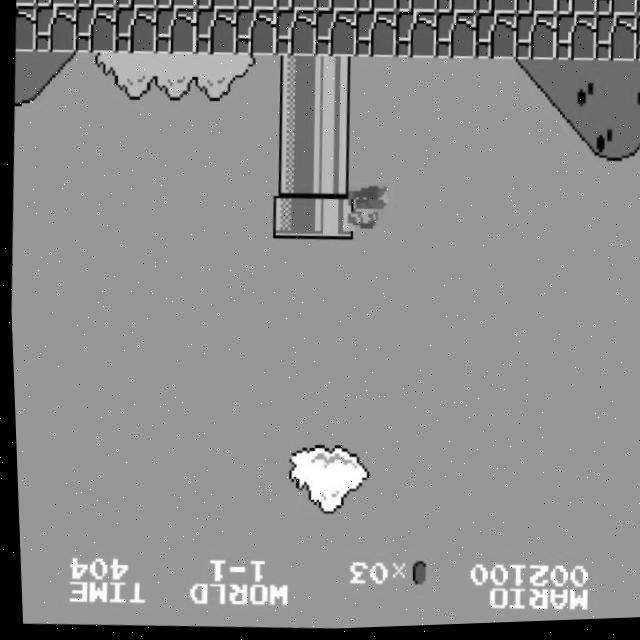11- little_mario: (345, 187, 391, 239)
14- pipe: (311, 103, 356, 153), (272, 56, 317, 106), (310, 149, 355, 198), (312, 58, 357, 107), (271, 102, 316, 151), (270, 149, 314, 197)
15- pipe_head: (309, 194, 354, 244), (269, 194, 314, 243)
17- undestructible_block: (513, 16, 558, 66), (473, 15, 518, 64), (433, 14, 478, 63), (193, 9, 238, 58), (153, 8, 198, 57), (113, 7, 158, 56), (73, 6, 118, 55), (33, 5, 78, 54), (394, 13, 438, 63), (354, 12, 398, 62), (234, 9, 278, 59), (594, 18, 638, 67), (554, 17, 598, 66), (314, 12, 358, 61), (274, 11, 318, 60), (14, 5, 38, 53), (595, 0, 638, 22), (555, 0, 598, 21), (515, 0, 558, 20), (475, 0, 518, 19), (435, 0, 478, 18), (395, 0, 438, 17), (355, 0, 398, 16), (315, 0, 358, 15), (275, 0, 318, 14), (235, 0, 278, 13), (195, 0, 238, 12), (155, 0, 197, 11), (115, 0, 157, 11), (75, 0, 117, 10), (35, 0, 77, 9), (634, 19, 640, 67), (16, 0, 37, 7), (635, 0, 640, 22)
